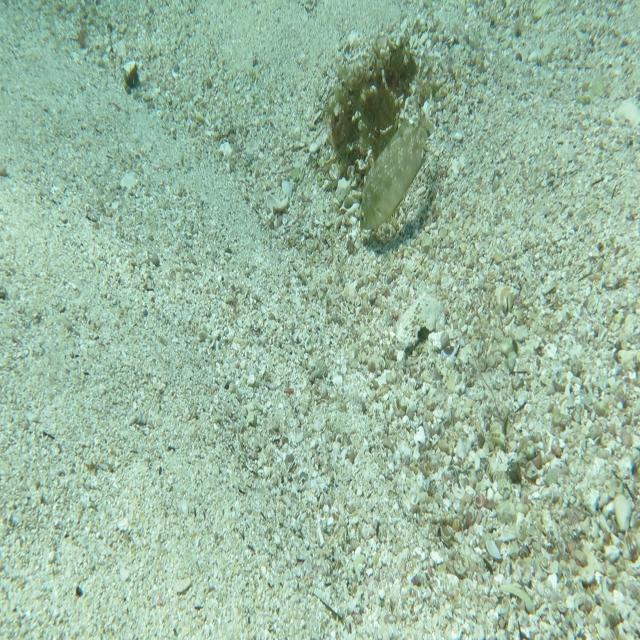SA: (355, 103, 437, 232)
core_nest: (371, 61, 404, 100)
nest: (322, 32, 419, 200)
vegetation: (122, 66, 142, 92)
